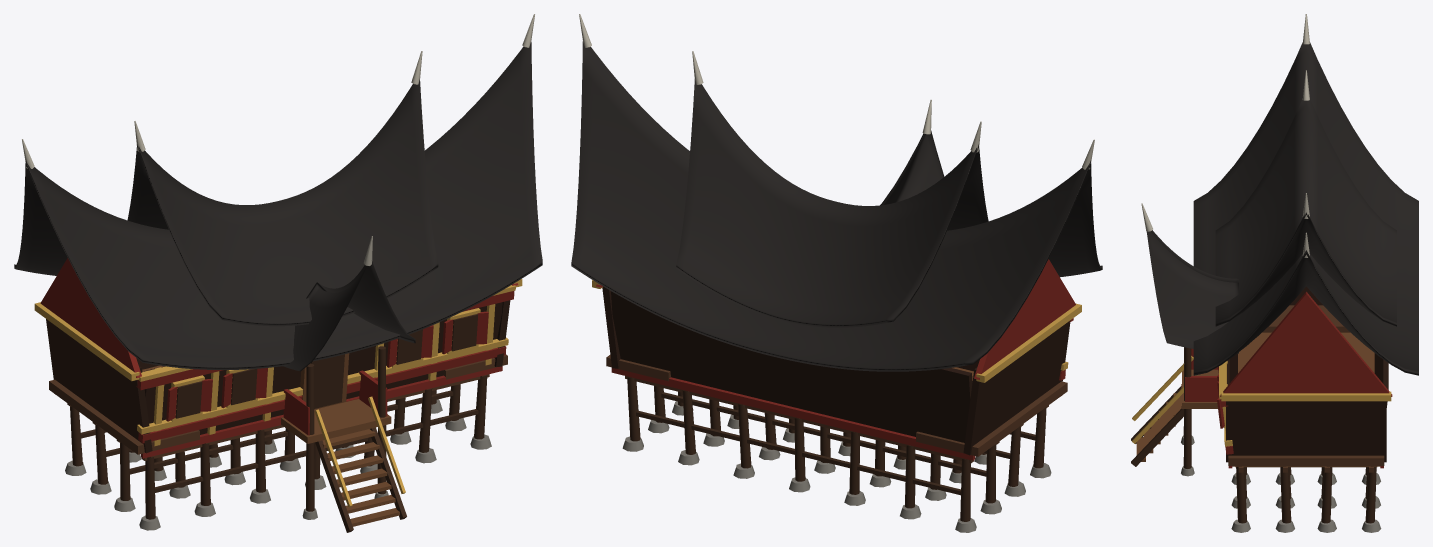
The model's file is rumah-gadang.glb.
3 renders of one model, left to right at view 1: azimuth 30°, elevation 25°; view 2: azimuth 150°, elevation 25°; view 3: azimuth 270°, elevation 25°, orthographic. The views are drawn at different scales.
Visible parts, largest first — view 1: atap_gonjong, dinding_ukir, tangga_janjang, tiang_tonggak, pintu_jendela, lantai_panggung, perabung_singok, batu_sandi; view 2: atap_gonjong, dinding_ukir, tiang_tonggak, lantai_panggung, batu_sandi, perabung_singok; view 3: atap_gonjong, perabung_singok, dinding_ukir, tangga_janjang, lantai_panggung, tiang_tonggak, batu_sandi.
Boxes of the visible parts, x1,y1,x2,y2 form: atap_gonjong: (14,14,542,371); dinding_ukir: (46,285,515,453); tangga_janjang: (281,346,406,532); tiang_tonggak: (67,374,489,519); pintu_jendela: (166,308,488,421); lantai_panggung: (49,354,507,458); perabung_singok: (34,258,522,381); batu_sandi: (65,399,491,530); atap_gonjong: (571,14,1102,371); dinding_ukir: (602,286,1073,455); tiang_tonggak: (625,376,1048,521); lantai_panggung: (606,355,1067,460); batu_sandi: (622,401,1051,532); perabung_singok: (592,259,1081,382); atap_gonjong: (1141,14,1418,375); perabung_singok: (1220,291,1392,401); dinding_ukir: (1219,286,1388,462); tangga_janjang: (1131,347,1218,476); lantai_panggung: (1228,305,1384,468); tiang_tonggak: (1235,466,1376,523); batu_sandi: (1231,472,1381,532).
Size of the model in its own units: 11.16 by 7.94 by 6.19.
